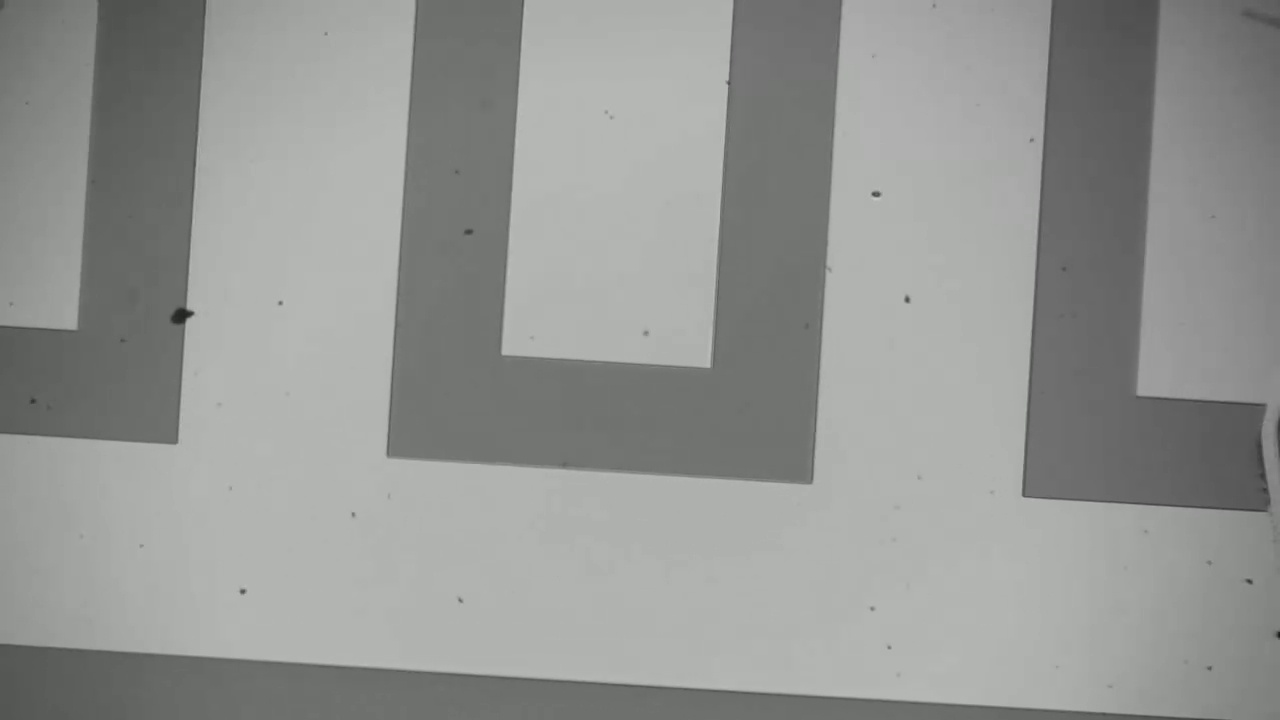Short_circuit: (1239, 381, 1279, 548)
